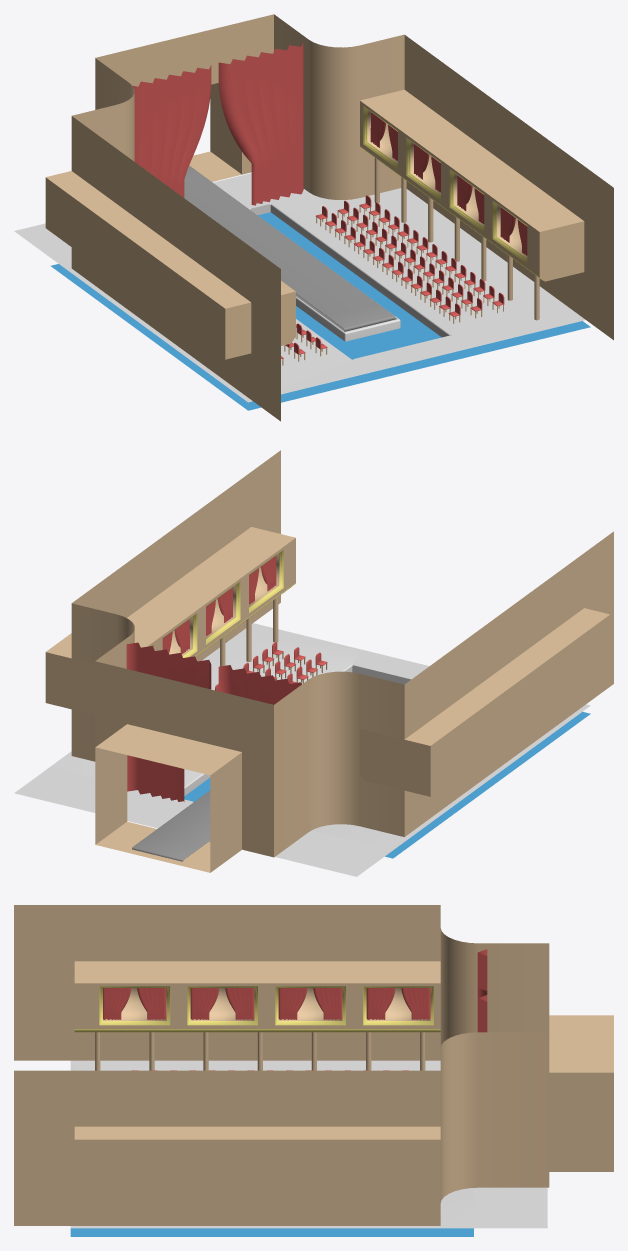
File: Opera_blockout.fbx
3 views of the same model, one above another, from view 1: azimuth 30°, elevation 25°; view 2: azimuth 150°, elevation 25°; view 3: azimuth 270°, elevation 25° (orthographic).
Parts seen in each view (by area): view 1: Cube.014, Cube.018, Plane.004, Cube.015, Plane.005, Cube.019, Cube.017, Cube.016, Cylinder.001; view 2: Cube.014, Cube.018, Plane.004, Cube.015, Cube.019, Plane.005, Cube.016, Cube.017, Cylinder.001; view 3: Cube.014, Cube.018, Plane.004, Cube.016, Plane.005, Cylinder.001, Cube.015.
Boxes of the visible parts, <box> form: Cube.014: <box>71,14,613,421</box>; Cube.018: <box>45,89,584,359</box>; Plane.004: <box>14,173,585,402</box>; Cube.015: <box>133,42,303,205</box>; Plane.005: <box>51,212,590,410</box>; Cube.019: <box>184,165,395,331</box>; Cube.017: <box>281,195,504,365</box>; Cube.016: <box>370,112,527,255</box>; Cylinder.001: <box>374,158,539,320</box>; Cube.014: <box>71,450,613,872</box>; Cube.018: <box>45,527,610,796</box>; Plane.004: <box>14,623,590,876</box>; Cube.015: <box>126,642,301,801</box>; Cube.019: <box>132,790,210,861</box>; Plane.005: <box>184,711,590,858</box>; Cube.016: <box>162,556,276,654</box>; Cube.017: <box>215,642,327,691</box>; Cylinder.001: <box>195,597,278,666</box>; Cube.014: <box>14,905,613,1225</box>; Cube.018: <box>74,961,440,1191</box>; Plane.004: <box>70,1060,547,1228</box>; Cube.016: <box>103,988,430,1019</box>; Plane.005: <box>70,1228,473,1236</box>; Cylinder.001: <box>95,1032,425,1070</box>; Cube.015: <box>477,949,487,1032</box>.
Bounding box in the file's own units: 3828 × 1682 × 5074.
